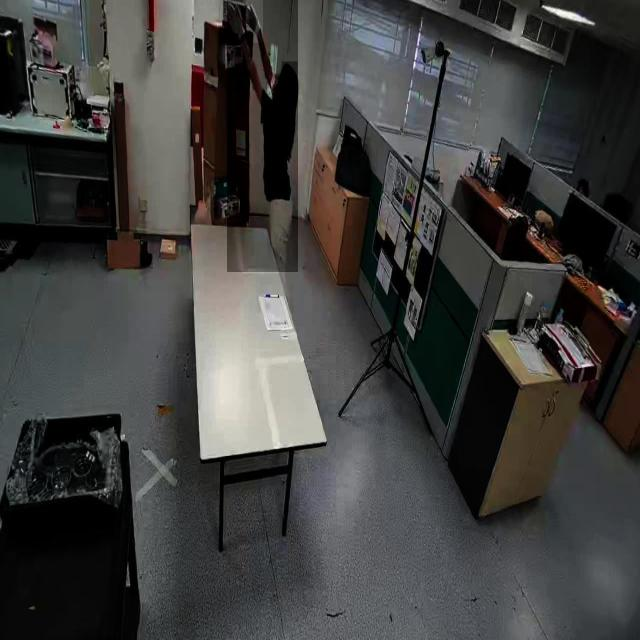hand_glove: (223, 0, 246, 44), (244, 0, 264, 44)
head_nohelmet: (282, 61, 298, 89)
person: (227, 0, 299, 273)
